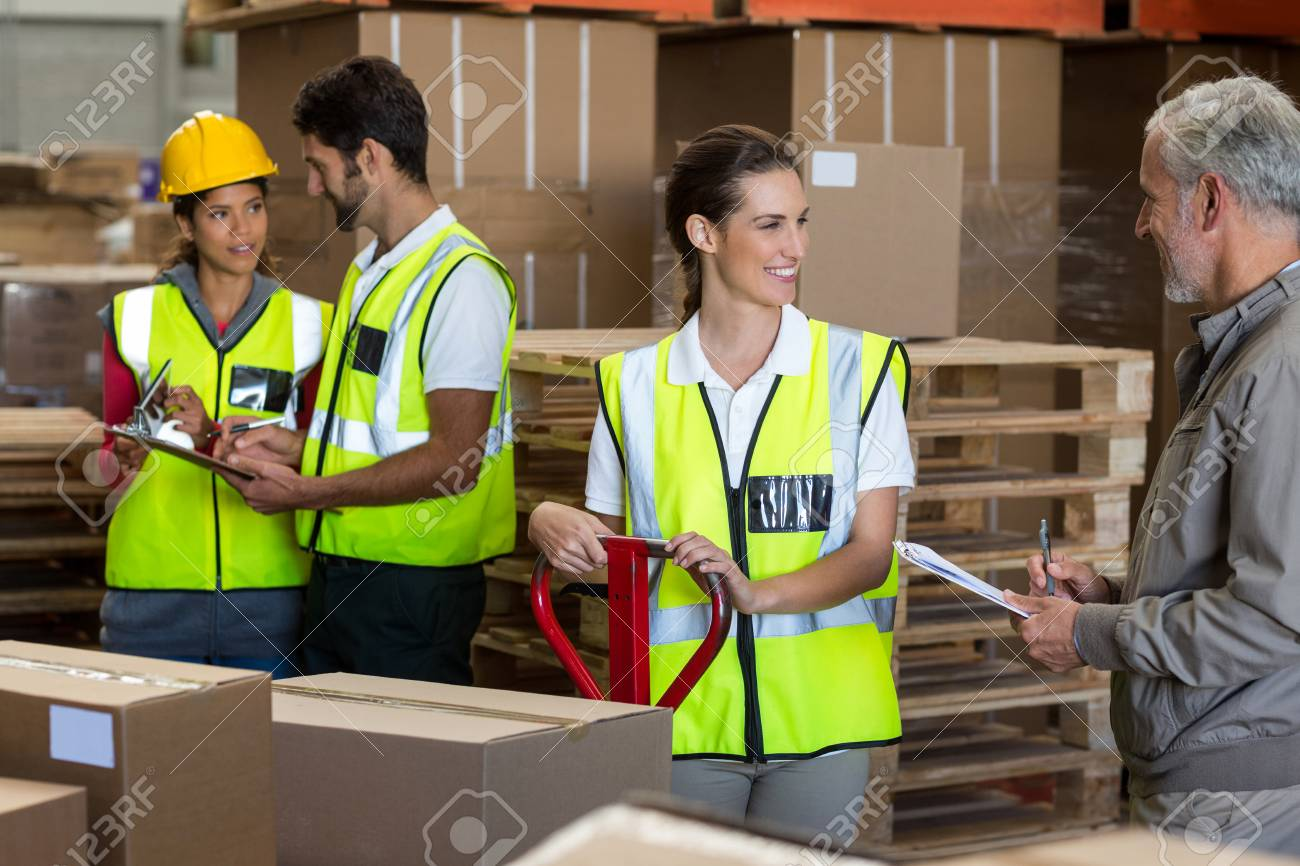epi: (89, 105, 315, 669)
noepi: (536, 122, 939, 855), (1036, 77, 1300, 854), (274, 51, 532, 678)
